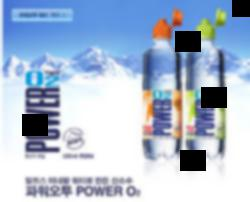powerO2_orange: (142, 10, 185, 165)
